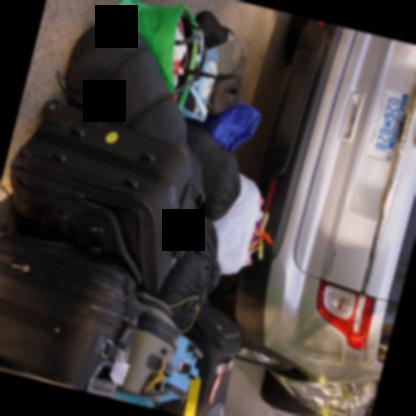handbag: (111, 0, 196, 103), (211, 174, 272, 275), (185, 120, 239, 221), (194, 11, 244, 79), (180, 48, 217, 122), (206, 71, 241, 115)
suitcase: (8, 98, 192, 295), (0, 225, 141, 398), (152, 305, 244, 416), (114, 291, 179, 406), (159, 336, 201, 403)
